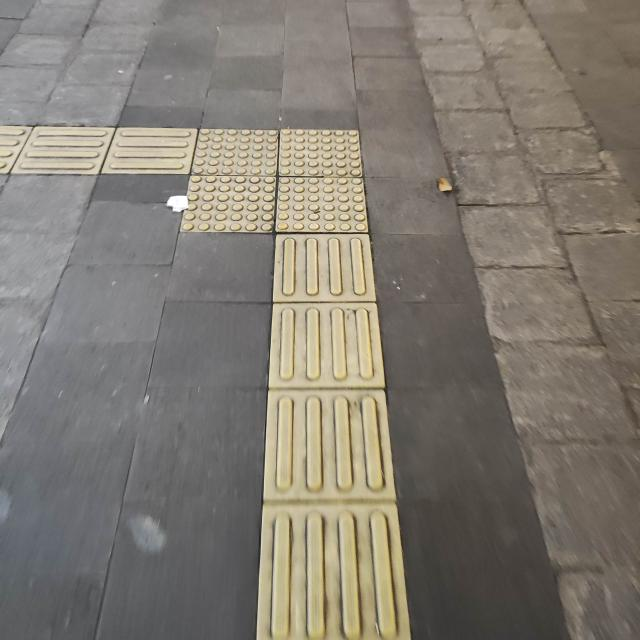kiri: (52, 126, 396, 268)
